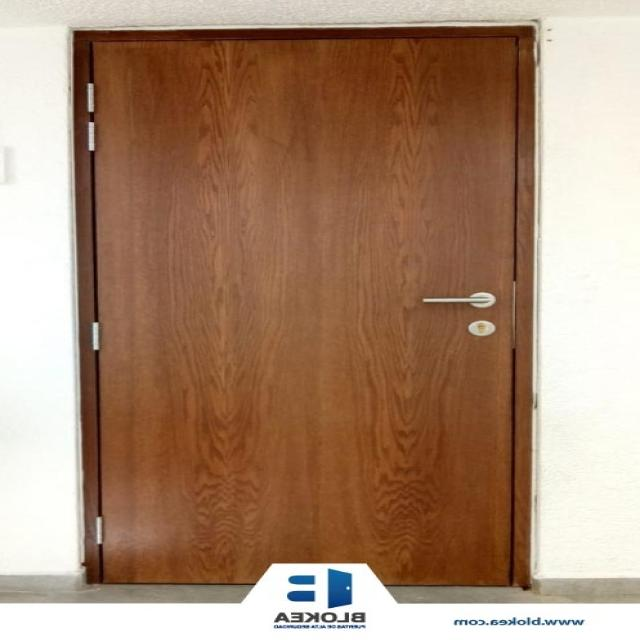door: (75, 22, 534, 586)
